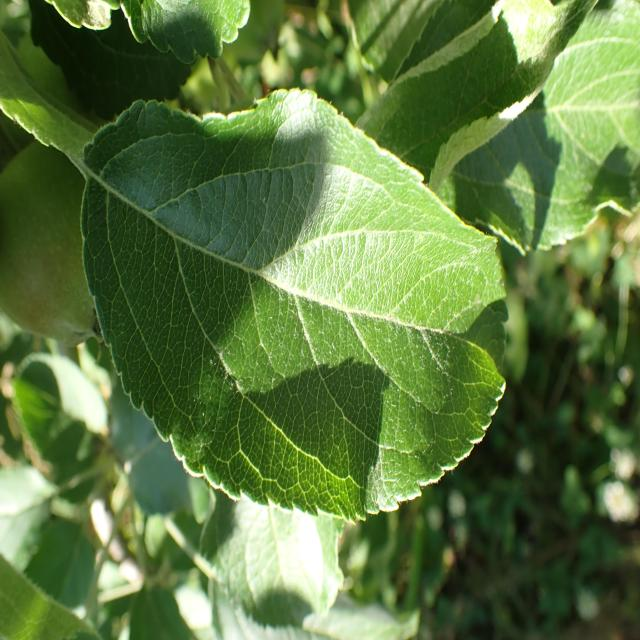healthy: (79, 86, 510, 523), (428, 1, 640, 258), (353, 0, 598, 184), (199, 489, 344, 638)
